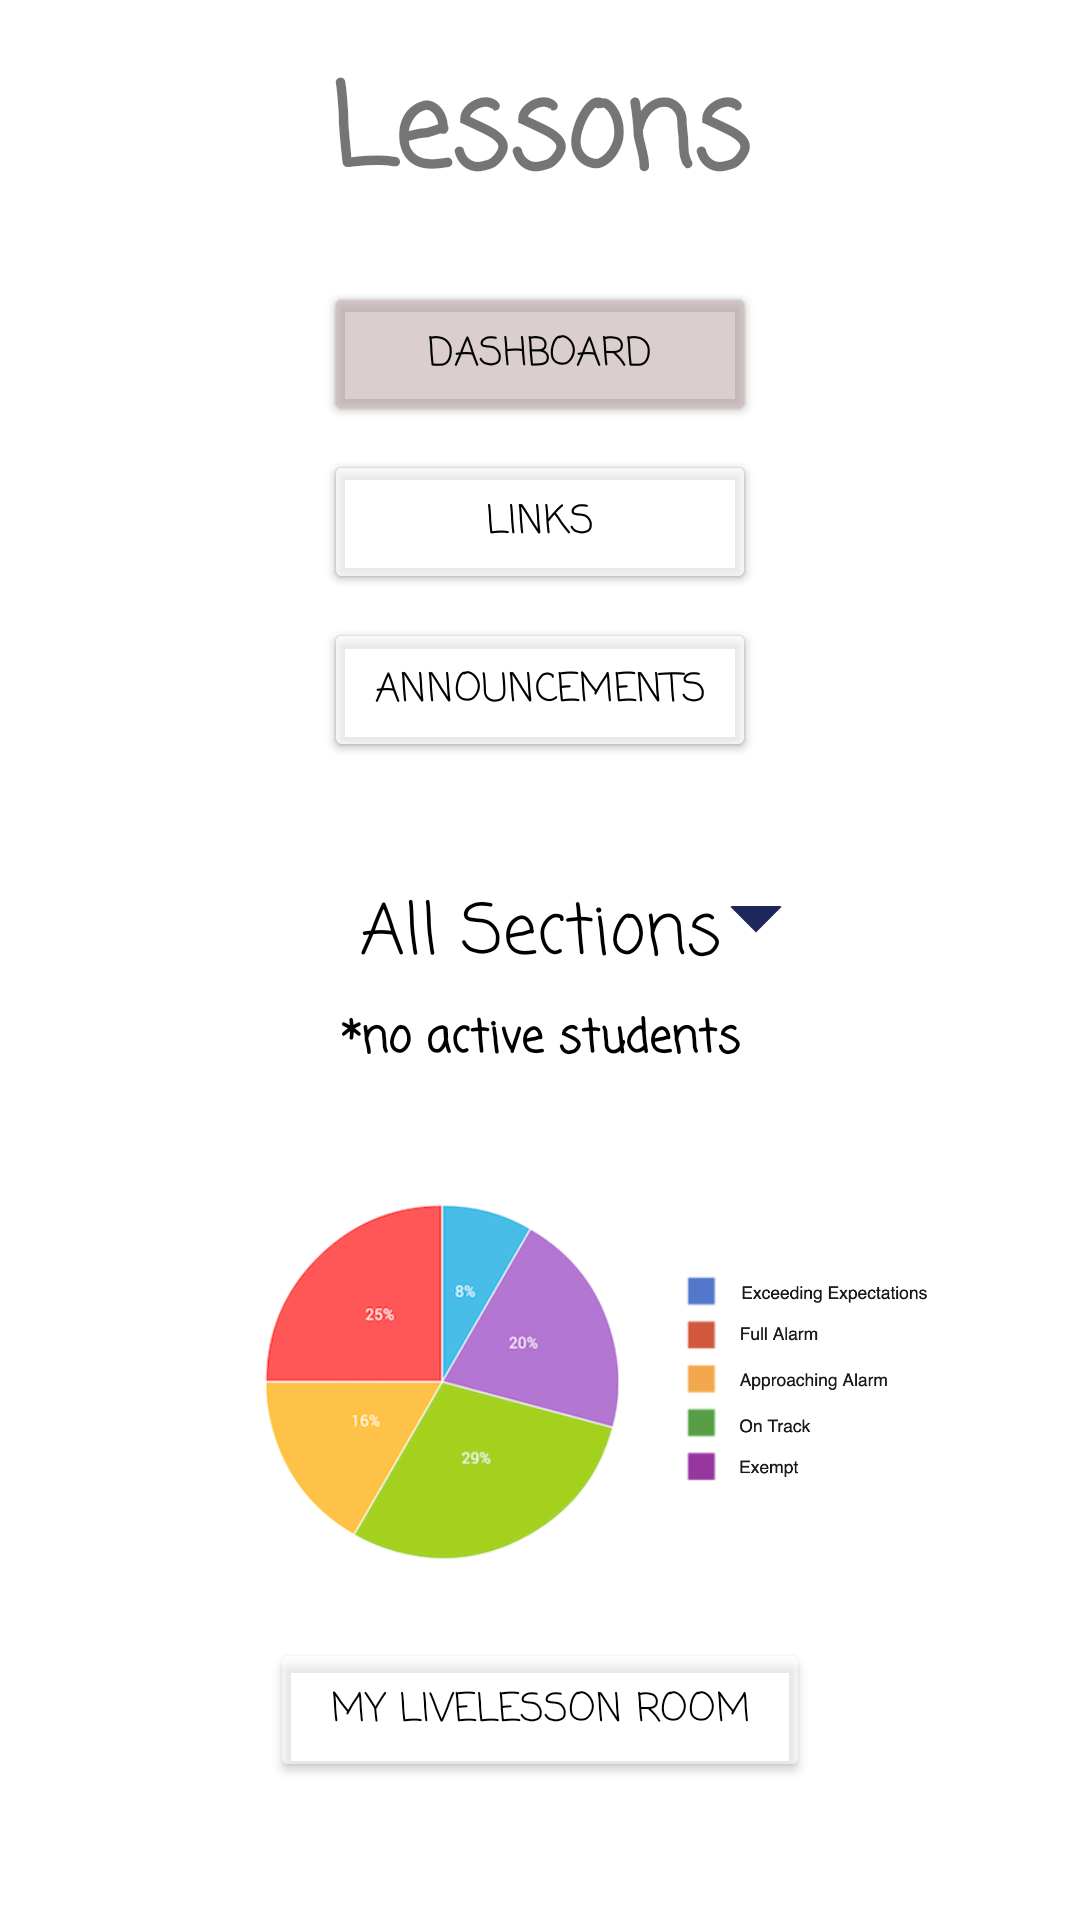

Icon bounding boxes for this 1080px×1920px phone screenshot, format (x1,y1,x2,y2):
pie chart one: (266,1205,619,1559)
